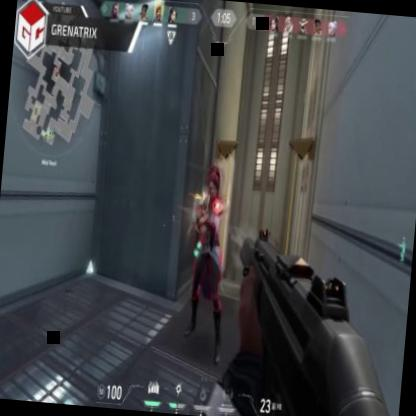enemy: (180, 163, 240, 365)
enemy_head: (207, 173, 220, 201)
